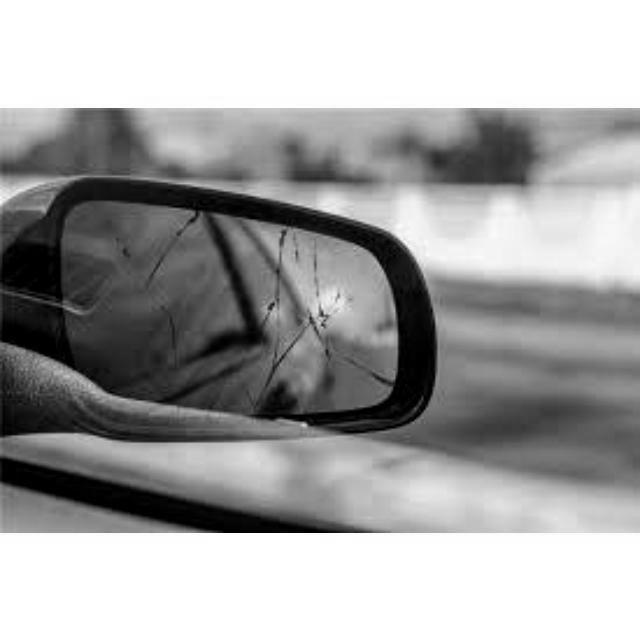Sidemirror-Damage: (17, 163, 442, 449)
